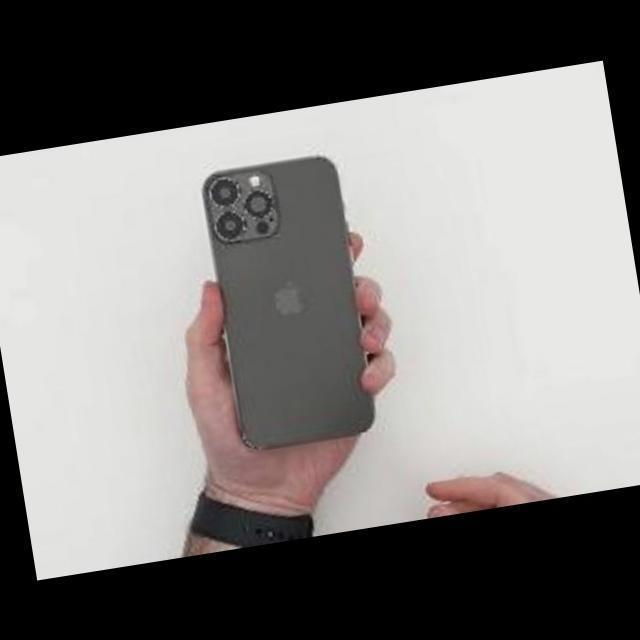phone: (203, 152, 379, 451)
